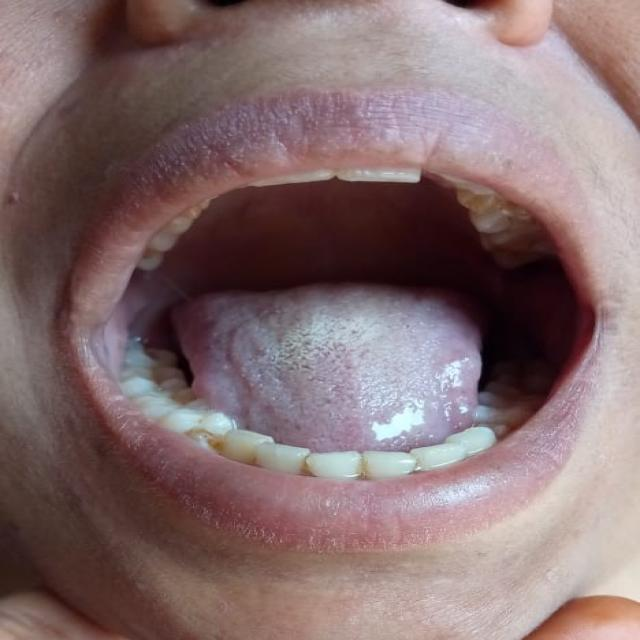No Cancer: (127, 151, 603, 553)
